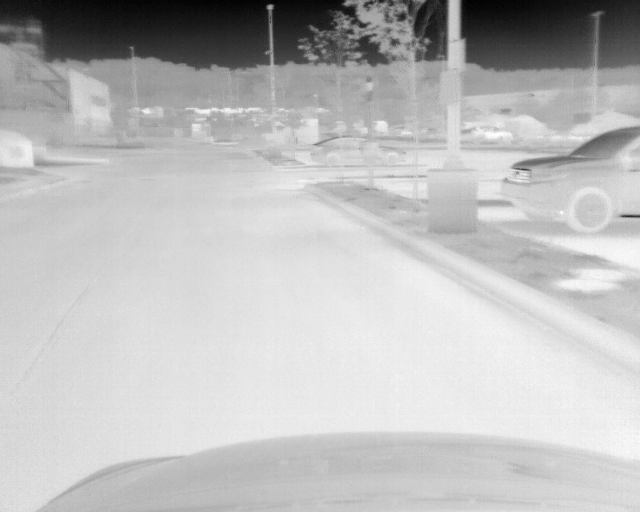car: (503, 127, 640, 233), (309, 134, 408, 168), (460, 124, 512, 147)
